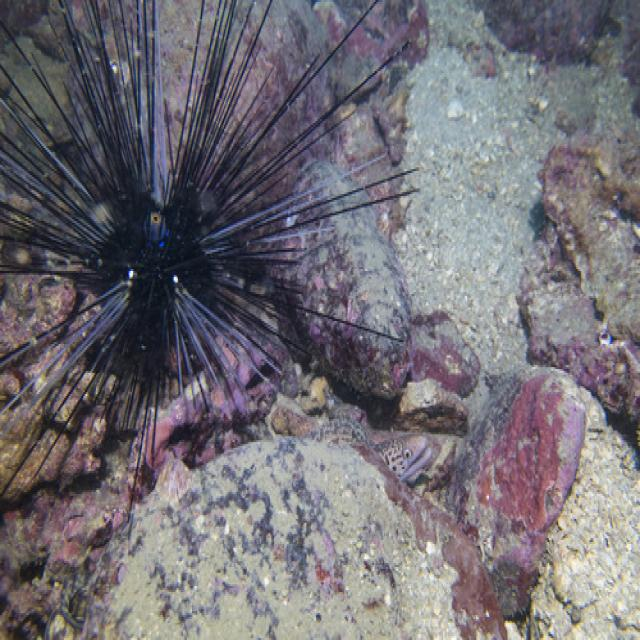Urchin: (5, 10, 426, 517)
